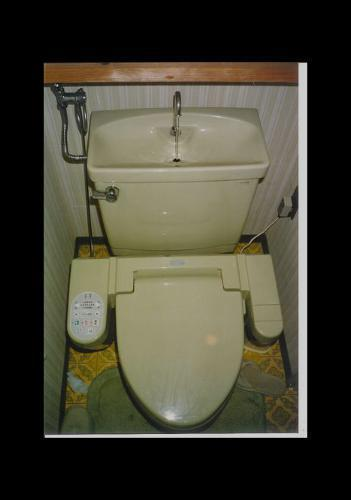Sanitario: (66, 100, 286, 434)
